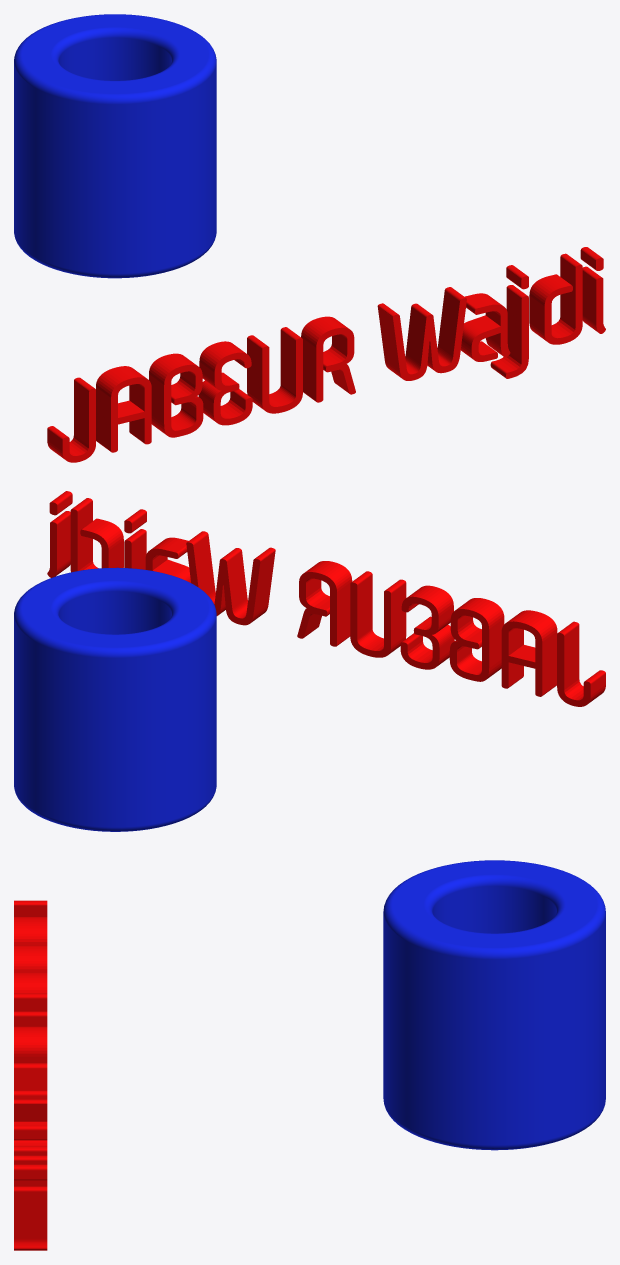
Rendered from ProjectName.glb.
3 renders of one model, top to bottom at view 1: azimuth 30°, elevation 25°; view 2: azimuth 150°, elevation 25°; view 3: azimuth 270°, elevation 25°, orthographic. The views are drawn at different scales.
Parts seen in each view (by area): view 1: Tube, 3D Text - W, 3D Text - B, 3D Text - A, 3D Text - d, 3D Text - U, 3D Text - R, 3D Text - E, 3D Text - a, 3D Text - j, 3D Text - J, 3D Text - i; view 2: Tube, 3D Text - W, 3D Text - B, 3D Text - A, 3D Text - U, 3D Text - R, 3D Text - E, 3D Text - d, 3D Text - J, 3D Text - i, 3D Text - a, 3D Text - j; view 3: Tube, 3D Text - i, 3D Text - W, 3D Text - R, 3D Text - U, 3D Text - A, 3D Text - B, 3D Text - j, 3D Text - E, 3D Text - J, 3D Text - d.
Part boxes in pixels (x1,y1,x2,y2): Tube: [14, 14, 216, 278]; 3D Text - W: [377, 287, 466, 380]; 3D Text - B: [149, 353, 203, 437]; 3D Text - A: [96, 366, 151, 452]; 3D Text - d: [529, 253, 582, 344]; 3D Text - U: [247, 327, 302, 413]; 3D Text - R: [301, 316, 355, 402]; 3D Text - E: [198, 341, 252, 425]; 3D Text - a: [461, 293, 510, 361]; 3D Text - j: [490, 265, 528, 378]; 3D Text - J: [47, 377, 95, 462]; 3D Text - i: [580, 247, 605, 333]; Tube: [14, 567, 216, 831]; 3D Text - W: [186, 531, 275, 625]; 3D Text - B: [449, 598, 504, 681]; 3D Text - A: [501, 610, 557, 696]; 3D Text - U: [350, 571, 406, 657]; 3D Text - R: [297, 561, 352, 646]; 3D Text - E: [400, 585, 454, 669]; 3D Text - d: [70, 498, 123, 572]; 3D Text - J: [557, 621, 605, 706]; 3D Text - i: [47, 491, 72, 577]; 3D Text - a: [145, 537, 190, 582]; 3D Text - j: [124, 509, 146, 569]; Tube: [383, 860, 605, 1150]; 3D Text - i: [14, 1164, 47, 1250]; 3D Text - W: [14, 1063, 47, 1121]; 3D Text - R: [14, 1026, 47, 1063]; 3D Text - U: [14, 993, 47, 1026]; 3D Text - A: [14, 917, 47, 945]; 3D Text - B: [14, 945, 47, 972]; 3D Text - j: [14, 1125, 47, 1155]; 3D Text - E: [14, 972, 47, 993]; 3D Text - J: [14, 900, 47, 916]; 3D Text - d: [14, 1155, 47, 1186].
Bounding box in the file's own units: 0.3095 × 0.1125 × 0.2659.
